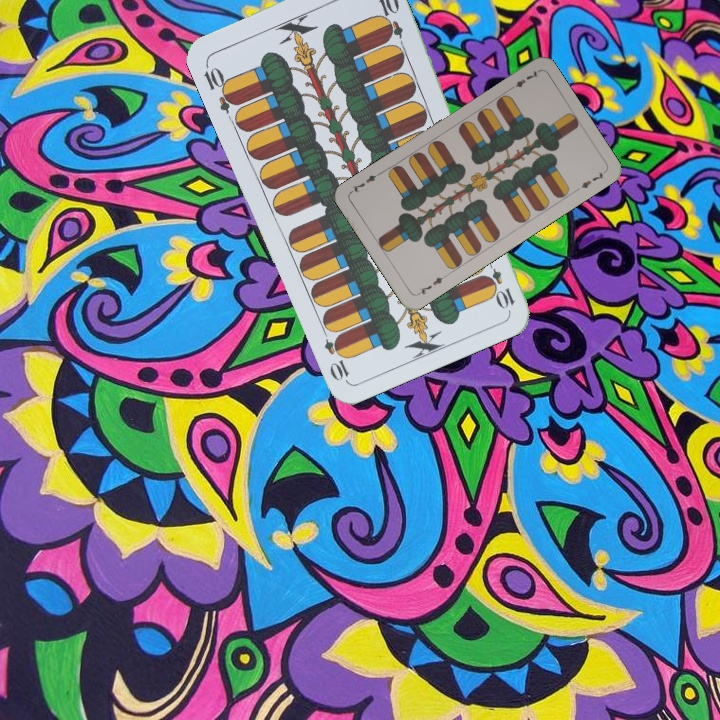E10: (199, 59, 241, 115), (480, 254, 518, 311)
E7: (505, 66, 541, 94), (413, 271, 450, 298)
